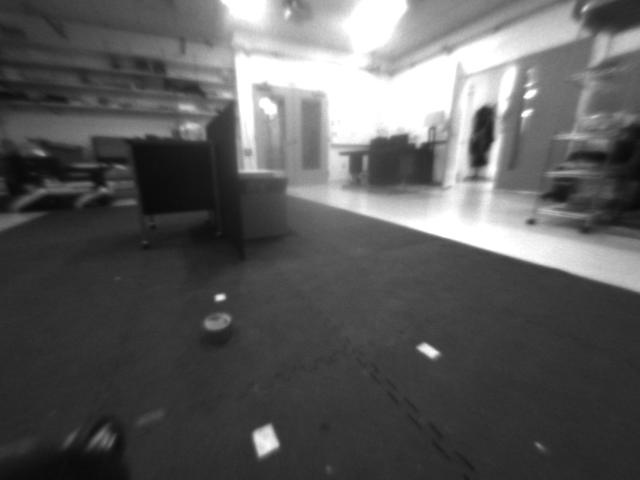dogtoy: (185, 305, 246, 344)
